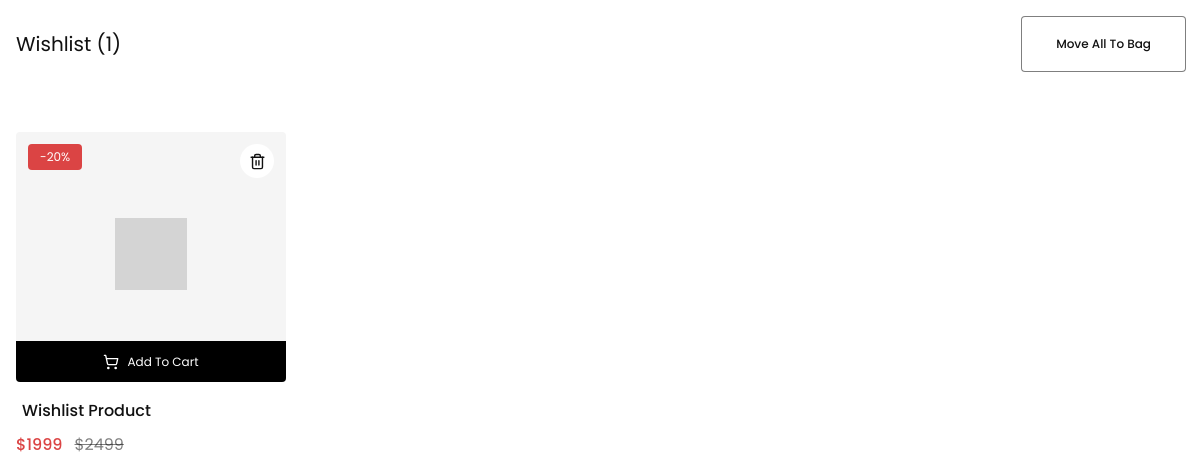
Test: WishlistPage › moves an item to the cart using the first in-stock detail variant, then removes it from the wishlist
The image size is (1203, 469).
Expected: the button "Wishlist Product" is shown, [16, 398, 157, 424]
Click the button with aria-label "Move to cart" at (151, 362), box [16, 341, 286, 382]
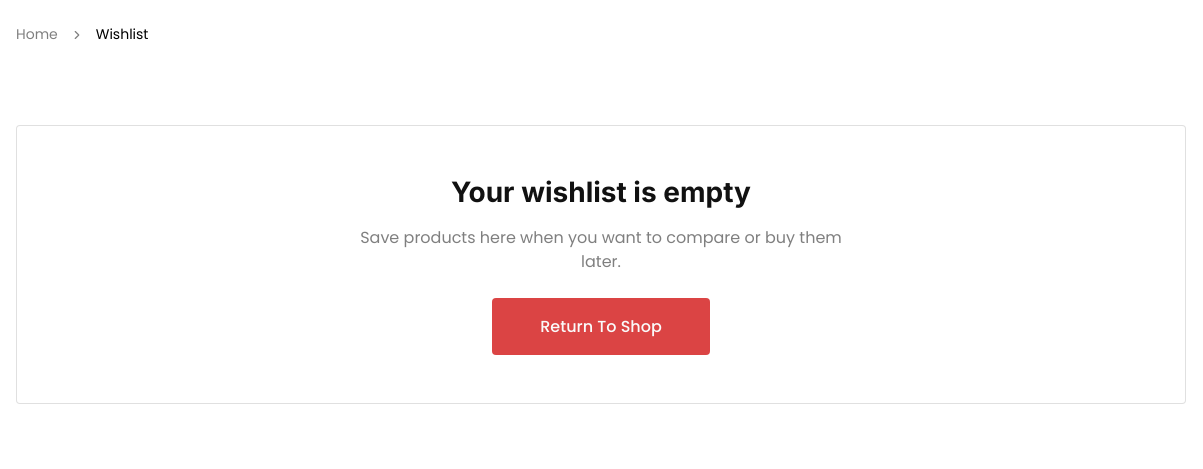
Now the heading "Your wishlist is empty" is shown, box [451, 174, 751, 210]
